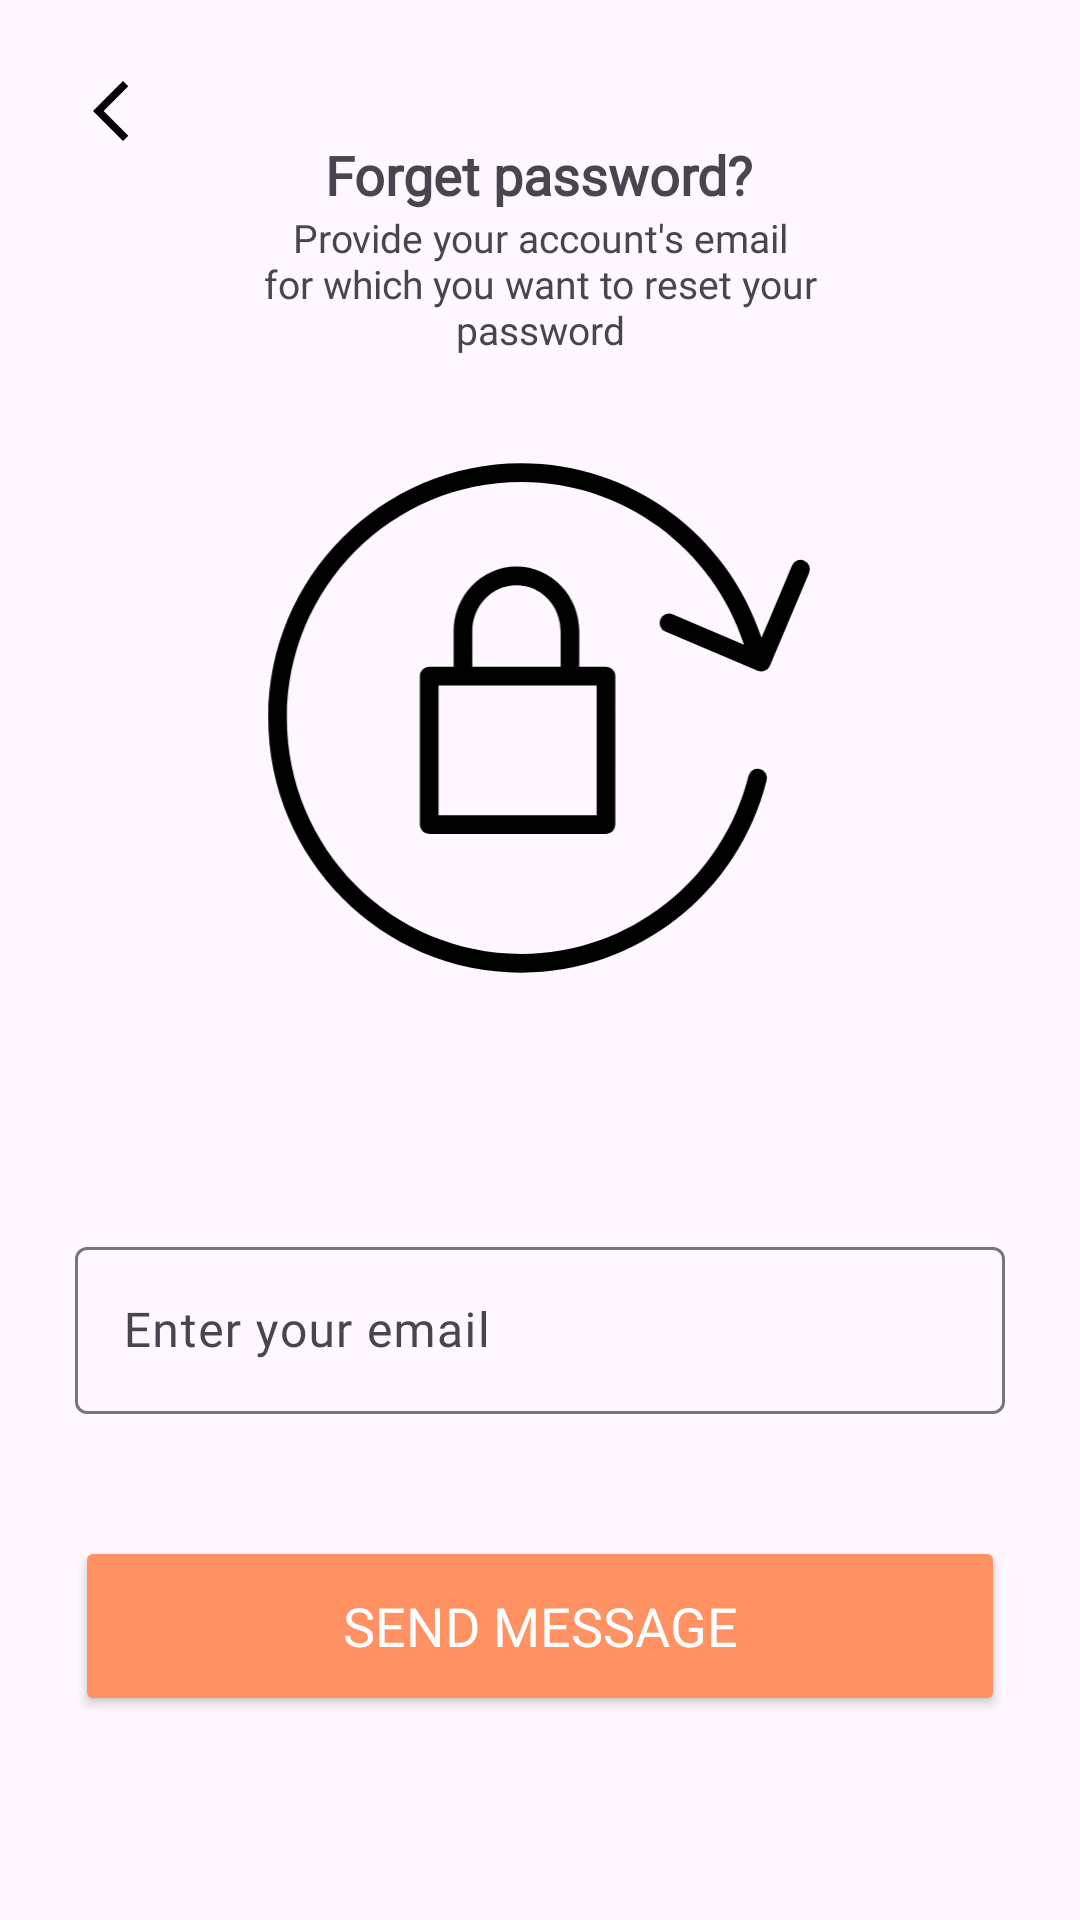

Screen size 1080 x 1920. Icon name, then its center in pixels as (x=x, y=y):
back: (x=110, y=111)
